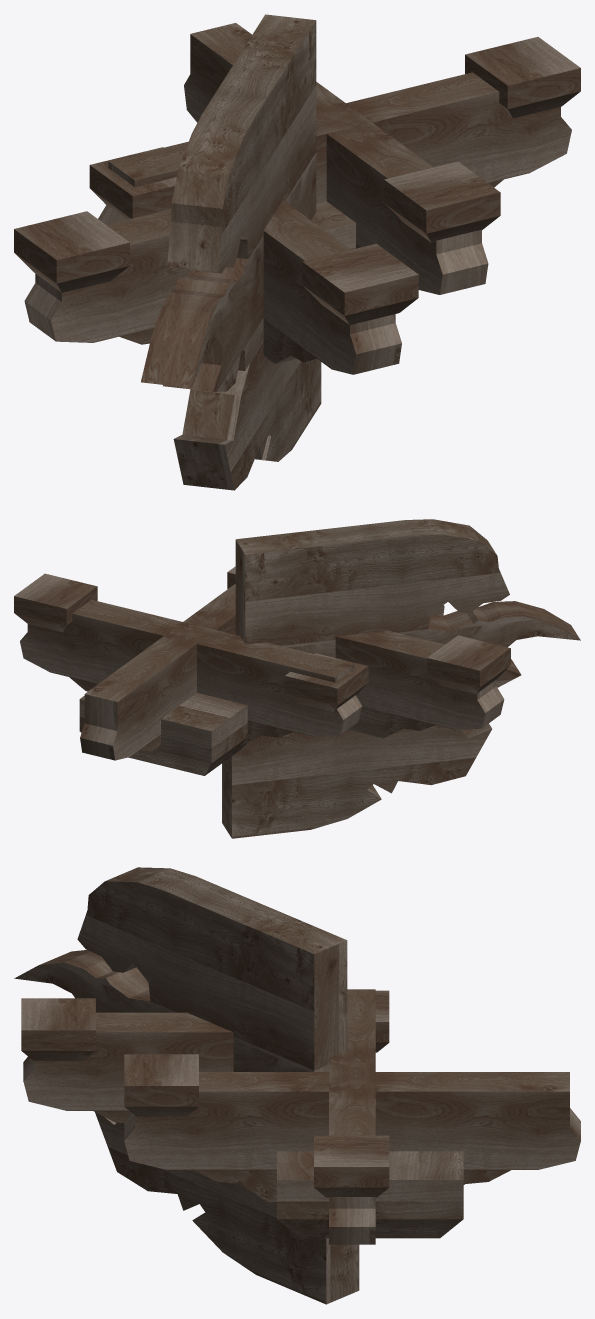
File: SM_Sun_Won_Gonpo_C.fbx
The picture shows the model from 3 angles, top to bottom: view 1: azimuth 30°, elevation 25°; view 2: azimuth 150°, elevation 25°; view 3: azimuth 270°, elevation 25°; orthographic projection. The views are drawn at different scales.
Parts seen in each view (by area): view 1: SM_Sun_Won_Gonpo_C; view 2: SM_Sun_Won_Gonpo_C; view 3: SM_Sun_Won_Gonpo_C.
Part boxes in pixels (box(x1,y1,x2,y2)): SM_Sun_Won_Gonpo_C: box(14, 14, 580, 490); SM_Sun_Won_Gonpo_C: box(14, 519, 580, 838); SM_Sun_Won_Gonpo_C: box(14, 867, 580, 1304).
Bounding box in the file's own units: 129 × 81.68 × 122.
